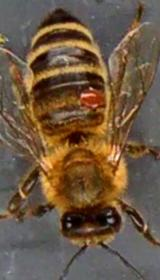varroa_mite: (70, 85, 107, 118)
